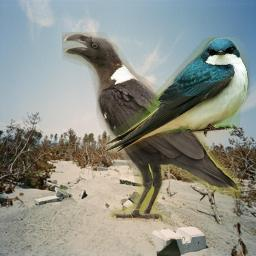Crow: (62, 32, 241, 222)
Swallow: (102, 37, 250, 153)
